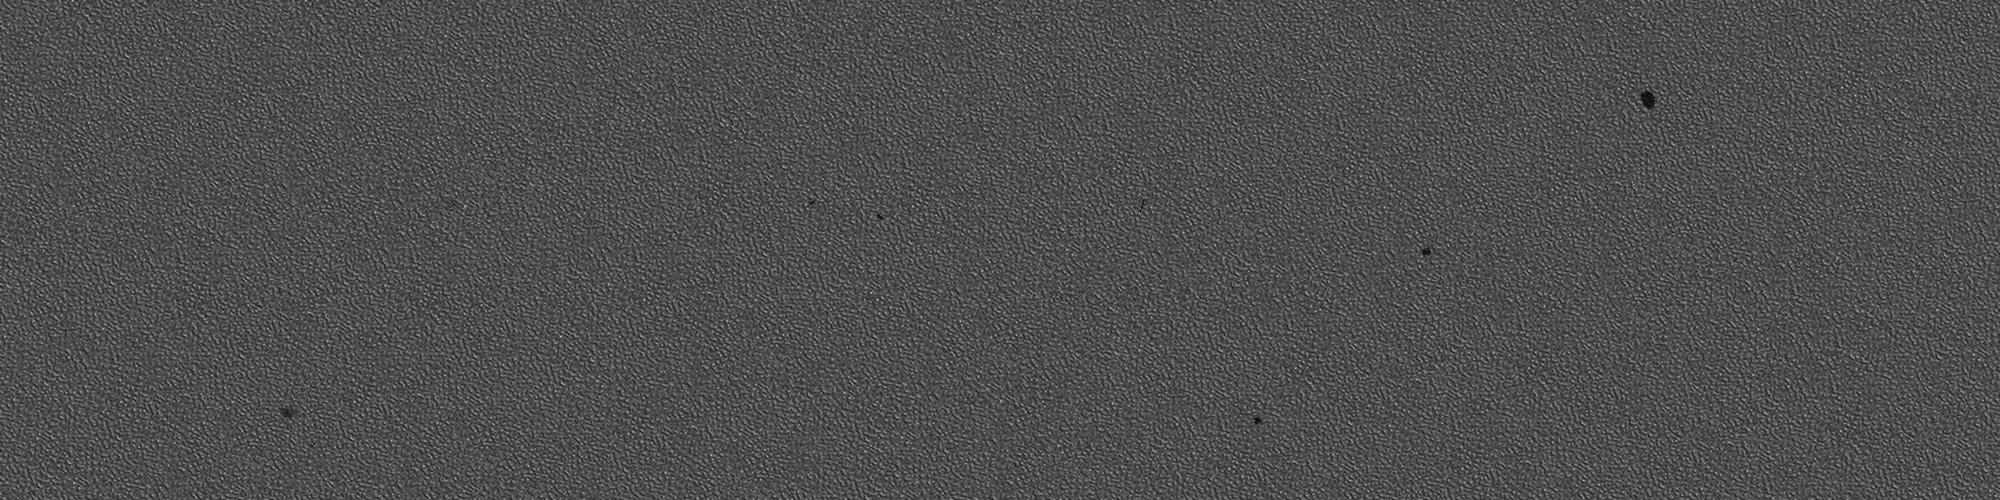Decomposed: (269, 401, 311, 425), (1636, 89, 1666, 111), (870, 209, 895, 230), (1247, 413, 1270, 432), (1416, 244, 1436, 261), (804, 196, 819, 207)
